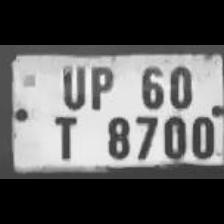0: (164, 61, 194, 108), (188, 108, 216, 158), (158, 110, 187, 158)
6: (135, 64, 165, 108)
7: (130, 110, 159, 160)
8: (102, 112, 131, 160)
P: (84, 61, 116, 111)
T: (46, 110, 84, 162)
U: (55, 61, 87, 108)
